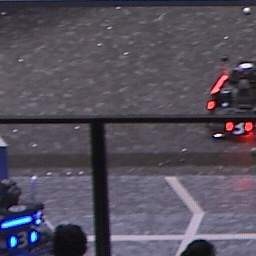Blue: (8, 231, 37, 247)
Red: (225, 117, 254, 135)
Robot: (204, 61, 256, 142), (1, 177, 48, 254)
